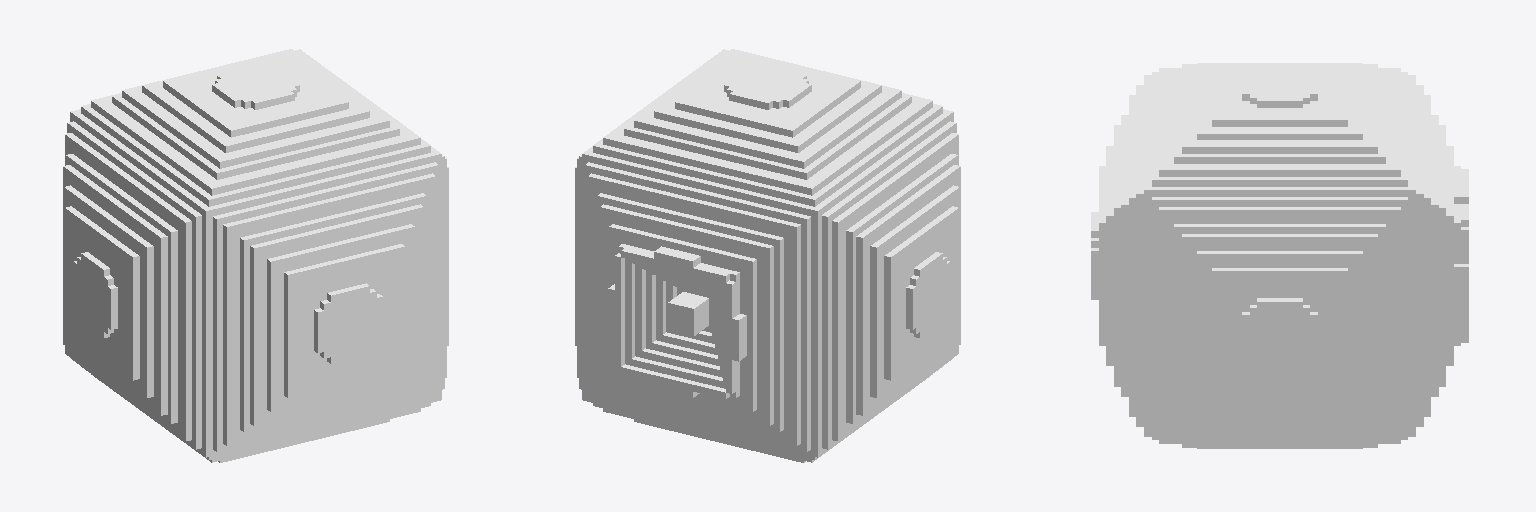
The model's file is Sentry.obj.
3 renders of one model, left to right at view 1: azimuth 30°, elevation 25°; view 2: azimuth 150°, elevation 25°; view 3: azimuth 270°, elevation 25°, orthographic.
Visible parts, largest first — view 1: Sentry; view 2: Sentry; view 3: Sentry.
Boxes of the visible parts, x1,y1,x2,y2 form: Sentry: [63, 49, 448, 462]; Sentry: [575, 49, 960, 462]; Sentry: [1091, 63, 1468, 448].
Bounding box in the file's own units: 50 × 50 × 50.